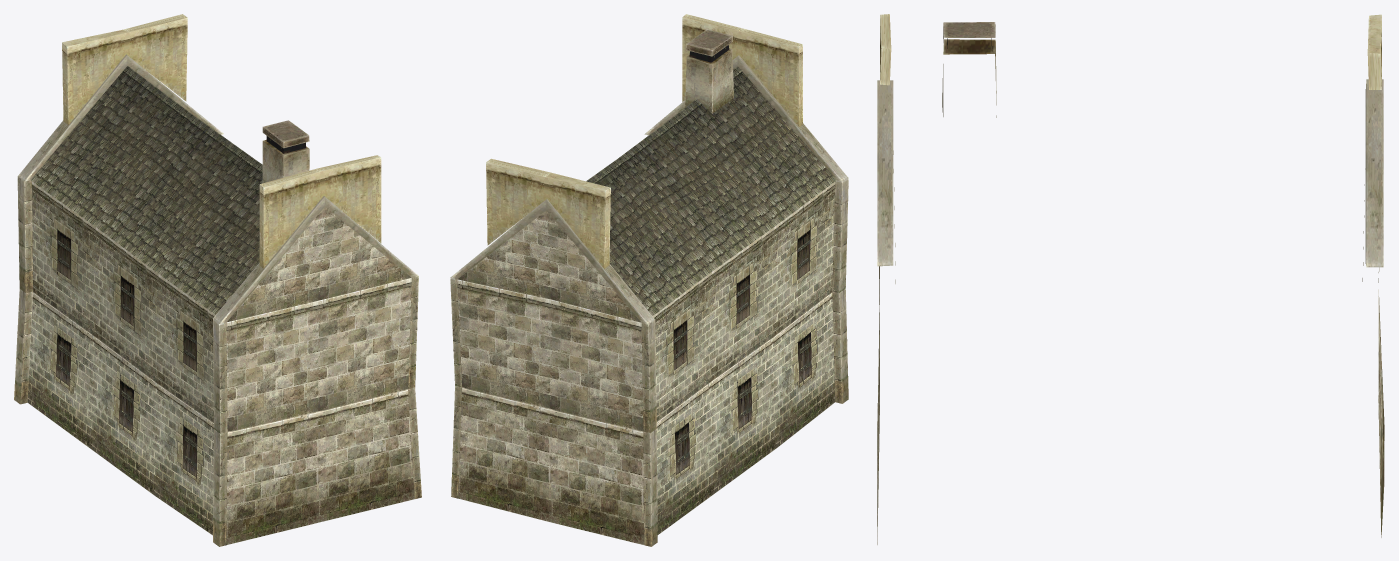
Rendered from OZ_09_sn_T03blgd01D.glb.
3 renders of one model, left to right at view 1: azimuth 30°, elevation 25°; view 2: azimuth 150°, elevation 25°; view 3: azimuth 270°, elevation 25°, orthographic. The views are drawn at different scales.
Visible parts, largest first — view 1: OM_09_sn_T03blgd01D; view 2: OM_09_sn_T03blgd01D; view 3: OM_09_sn_T03blgd01D.
Part boxes in pixels (x1,y1,x2,y2): OM_09_sn_T03blgd01D: [14, 14, 421, 546]; OM_09_sn_T03blgd01D: [450, 14, 848, 546]; OM_09_sn_T03blgd01D: [877, 14, 1384, 544].
Bounding box in the file's own units: 9.28 × 15.67 × 15.78.
Materials: 4 (4 with a texture image).
